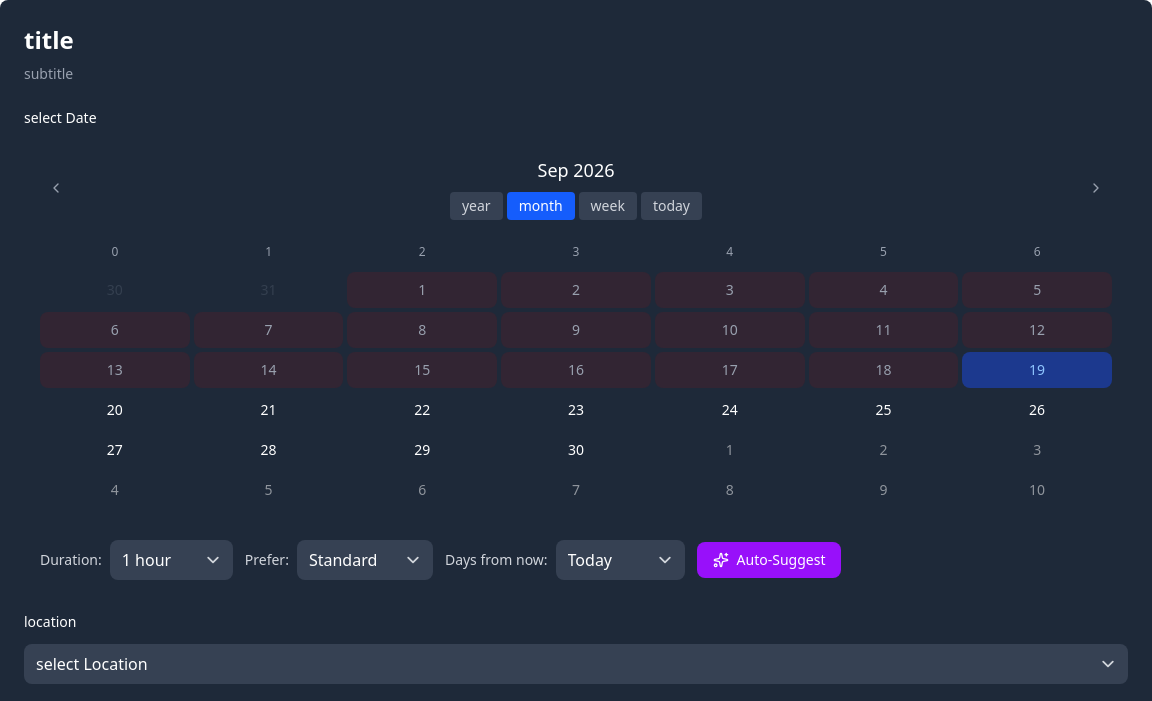
Test: ServiceScheduler - calendar view toggle › Switching to week view highlights the week button
The image size is (1152, 701).
Click the button "week": (608, 206) [579,192,637,220]
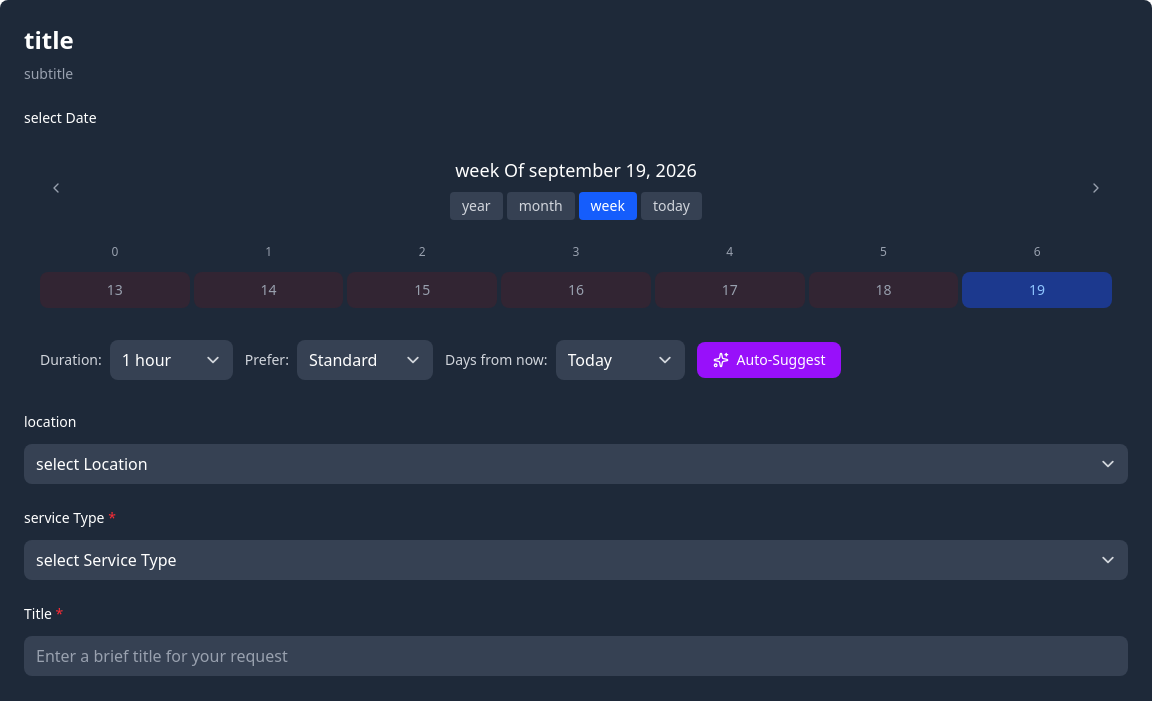
Check: the button "week" has class "bg-blue-600", box [579,192,637,220]
